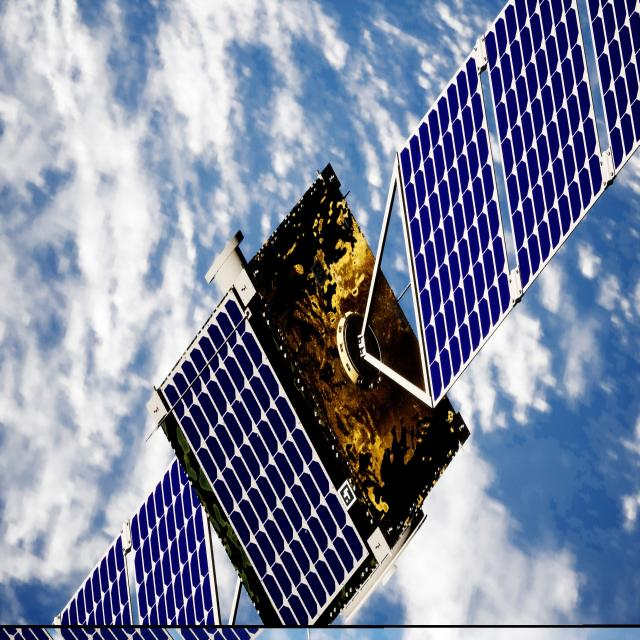medium_debris: (55, 0, 640, 640)
